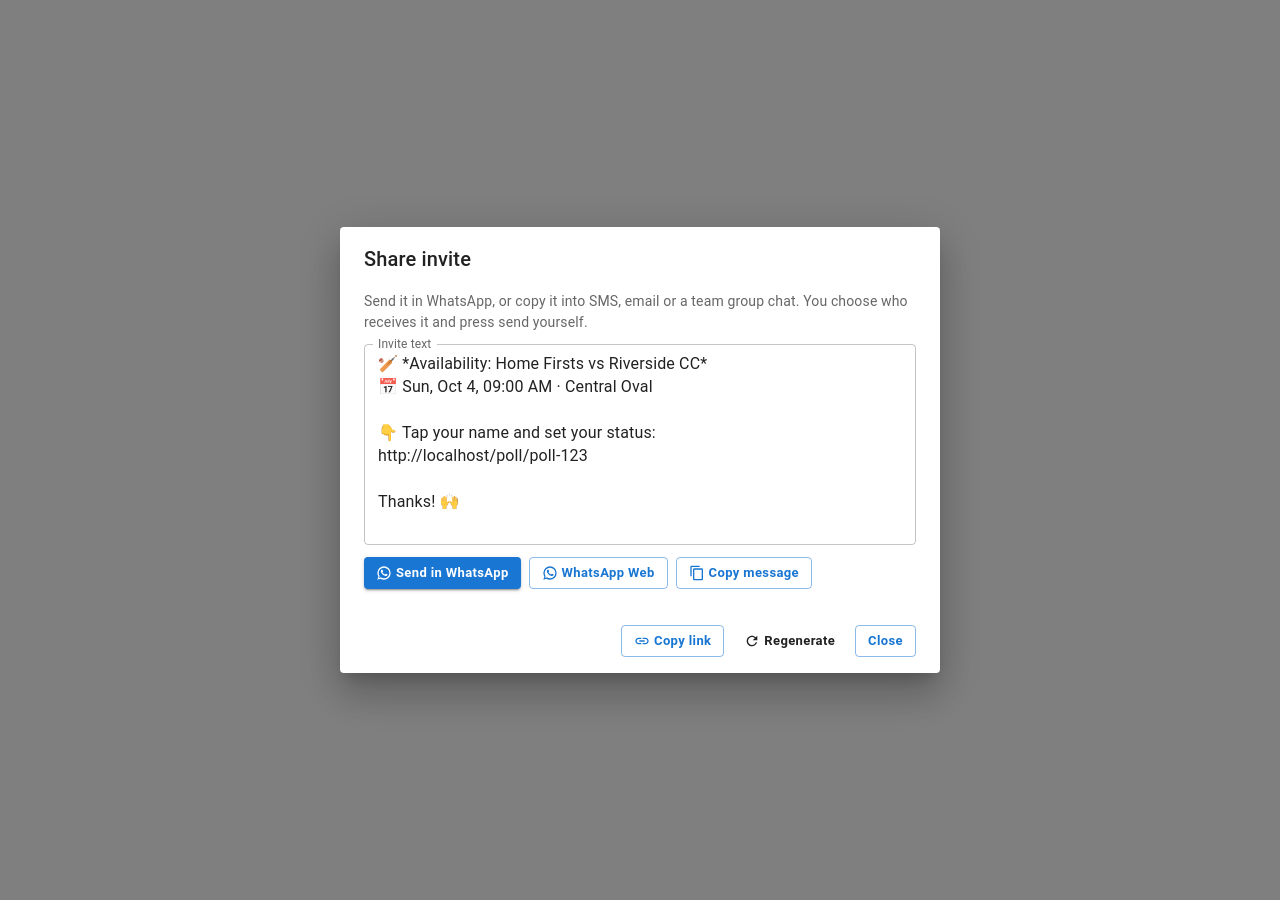
Scenario: PollShareDialog › copy to clipboard › tells the admin to copy manually when both routes fail
This screenshot has width=1280, height=900.
Click the button "Copy link" at (673, 640), box [621,624,724,656]
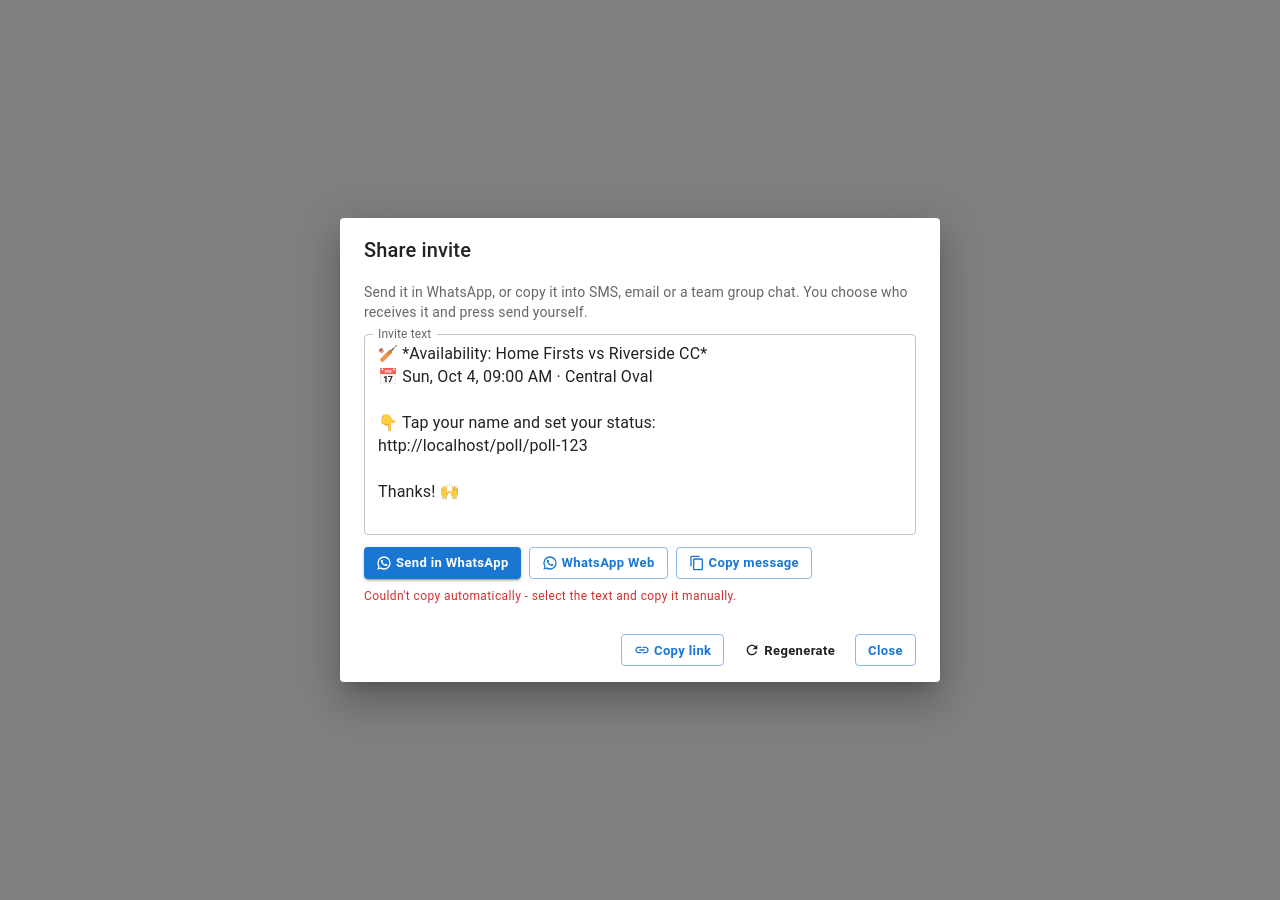
Expected: the button "Copy link" is shown, [621,634,724,666]
Now the message shows "copy it manually", box [364,589,737,603]
